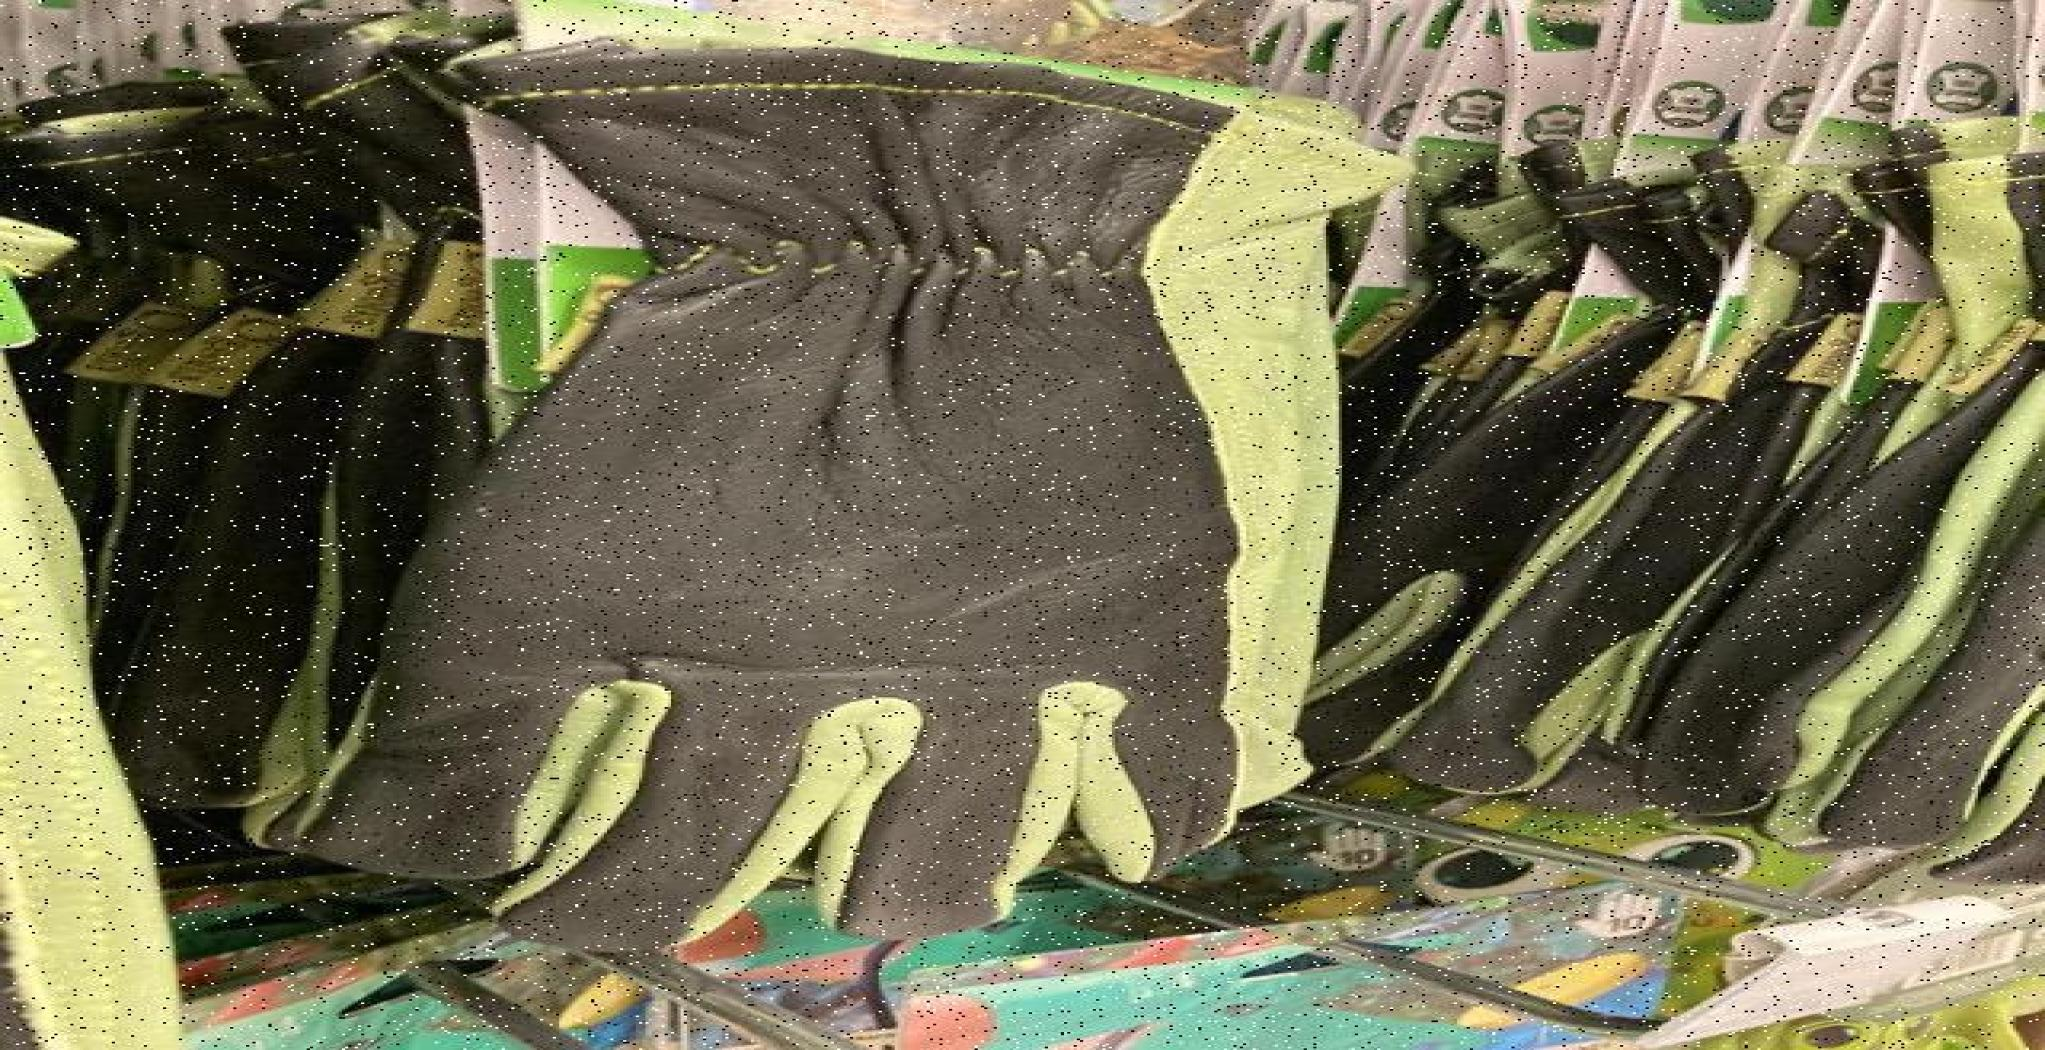gloved: (455, 55, 1385, 911)
